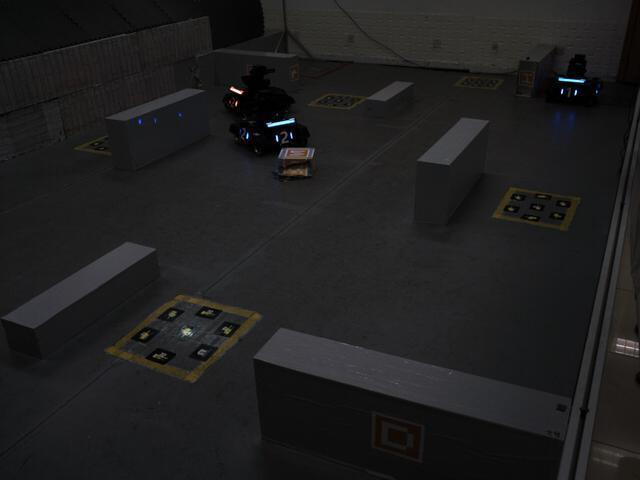armor: (269, 130, 297, 147), (222, 93, 243, 113), (234, 122, 252, 145), (557, 85, 581, 101)
